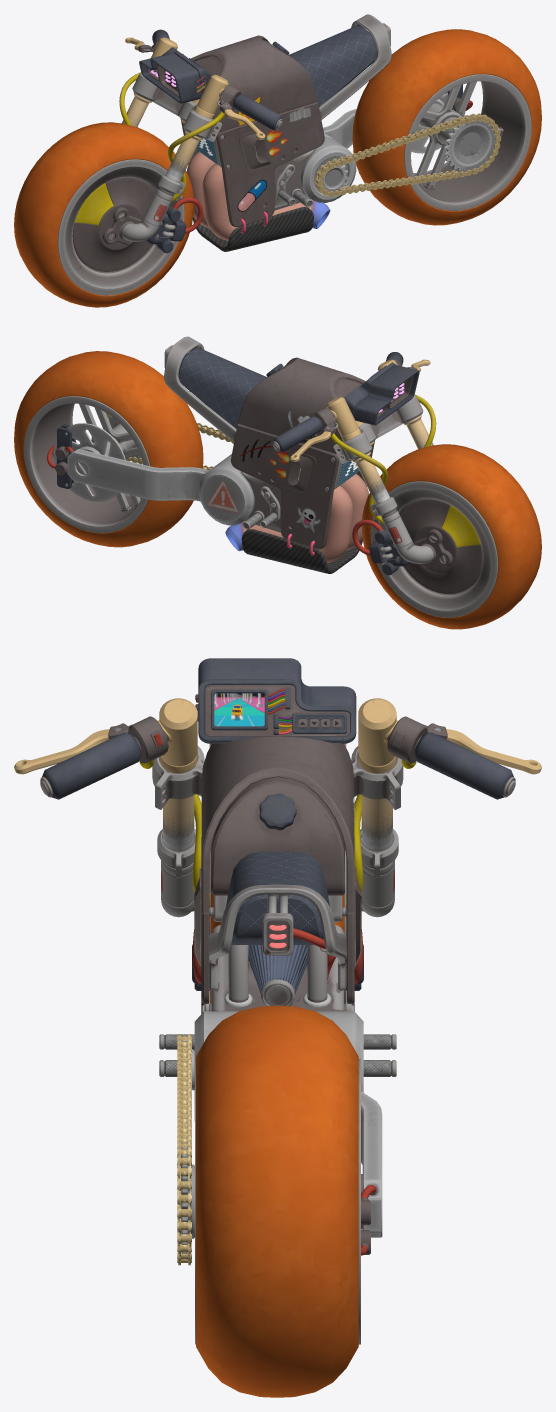
File: cyberpunk_bike.optimized.glb
3 renders of one model, top to bottom at view 1: azimuth 30°, elevation 25°; view 2: azimuth 150°, elevation 25°; view 3: azimuth 270°, elevation 25°, orthographic. The views are drawn at different scales.
Visible parts, largest first — view 1: wheels_9, wheels_7, wheels_8, skin.002, skin.003, wheels_4, wheels_5, col.004, chain.009, body.003, skin, chain.011 (+22 smaller); view 2: wheels_9, wheels_7, skin.002, wheels_8, wheels_4, skin.003, chain.004, wheels_5, col.004, body.003, chain.006, skin (+20 smaller); view 3: wheels_9, skin.003, body.016, fork.003, col.004, fork.005, col.001, fork.006, headlight.003, fork.007, chain.009, fork.008 (+20 smaller).
Boxes of the visible parts, <box> form: wheels_9: <box>352,29,541,225</box>; wheels_7: <box>14,122,194,307</box>; wheels_8: <box>404,74,531,210</box>; skin.002: <box>180,101,324,226</box>; skin.003: <box>191,35,317,131</box>; wheels_4: <box>57,159,184,295</box>; wheels_5: <box>72,176,155,271</box>; col.004: <box>288,25,376,106</box>; chain.009: <box>314,113,501,196</box>; body.003: <box>186,151,330,240</box>; skin: <box>193,207,313,251</box>; chain.011: <box>444,116,496,172</box>; wheels_9: <box>14,351,203,547</box>; wheels_7: <box>361,444,541,629</box>; skin.002: <box>230,423,374,549</box>; wheels_8: <box>24,396,149,533</box>; wheels_4: <box>371,481,498,617</box>; skin.003: <box>238,357,365,453</box>; chain.004: <box>67,449,208,501</box>; wheels_5: <box>400,498,482,593</box>; col.004: <box>178,347,267,428</box>; body.003: <box>225,474,368,562</box>; chain.006: <box>198,459,254,525</box>; skin: <box>241,529,362,573</box>; wheels_9: <box>196,1005,358,1397</box>; skin.003: <box>201,736,354,912</box>; body.016: <box>211,777,344,895</box>; fork.003: <box>42,732,513,799</box>; col.004: <box>226,851,329,944</box>; fork.005: <box>159,698,396,773</box>; col.001: <box>209,884,346,990</box>; fork.006: <box>152,745,403,809</box>; headlight.003: <box>198,658,356,714</box>; fork.007: <box>163,795,392,868</box>; chain.009: <box>177,1034,191,1265</box>; fork.008: <box>161,860,394,917</box>.
Size of what is drawn, in the model's own units: 911 by 391 by 418.
Materials: 12 (10 with a texture image).
